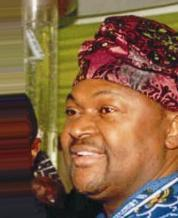face: (63, 95, 128, 168)
